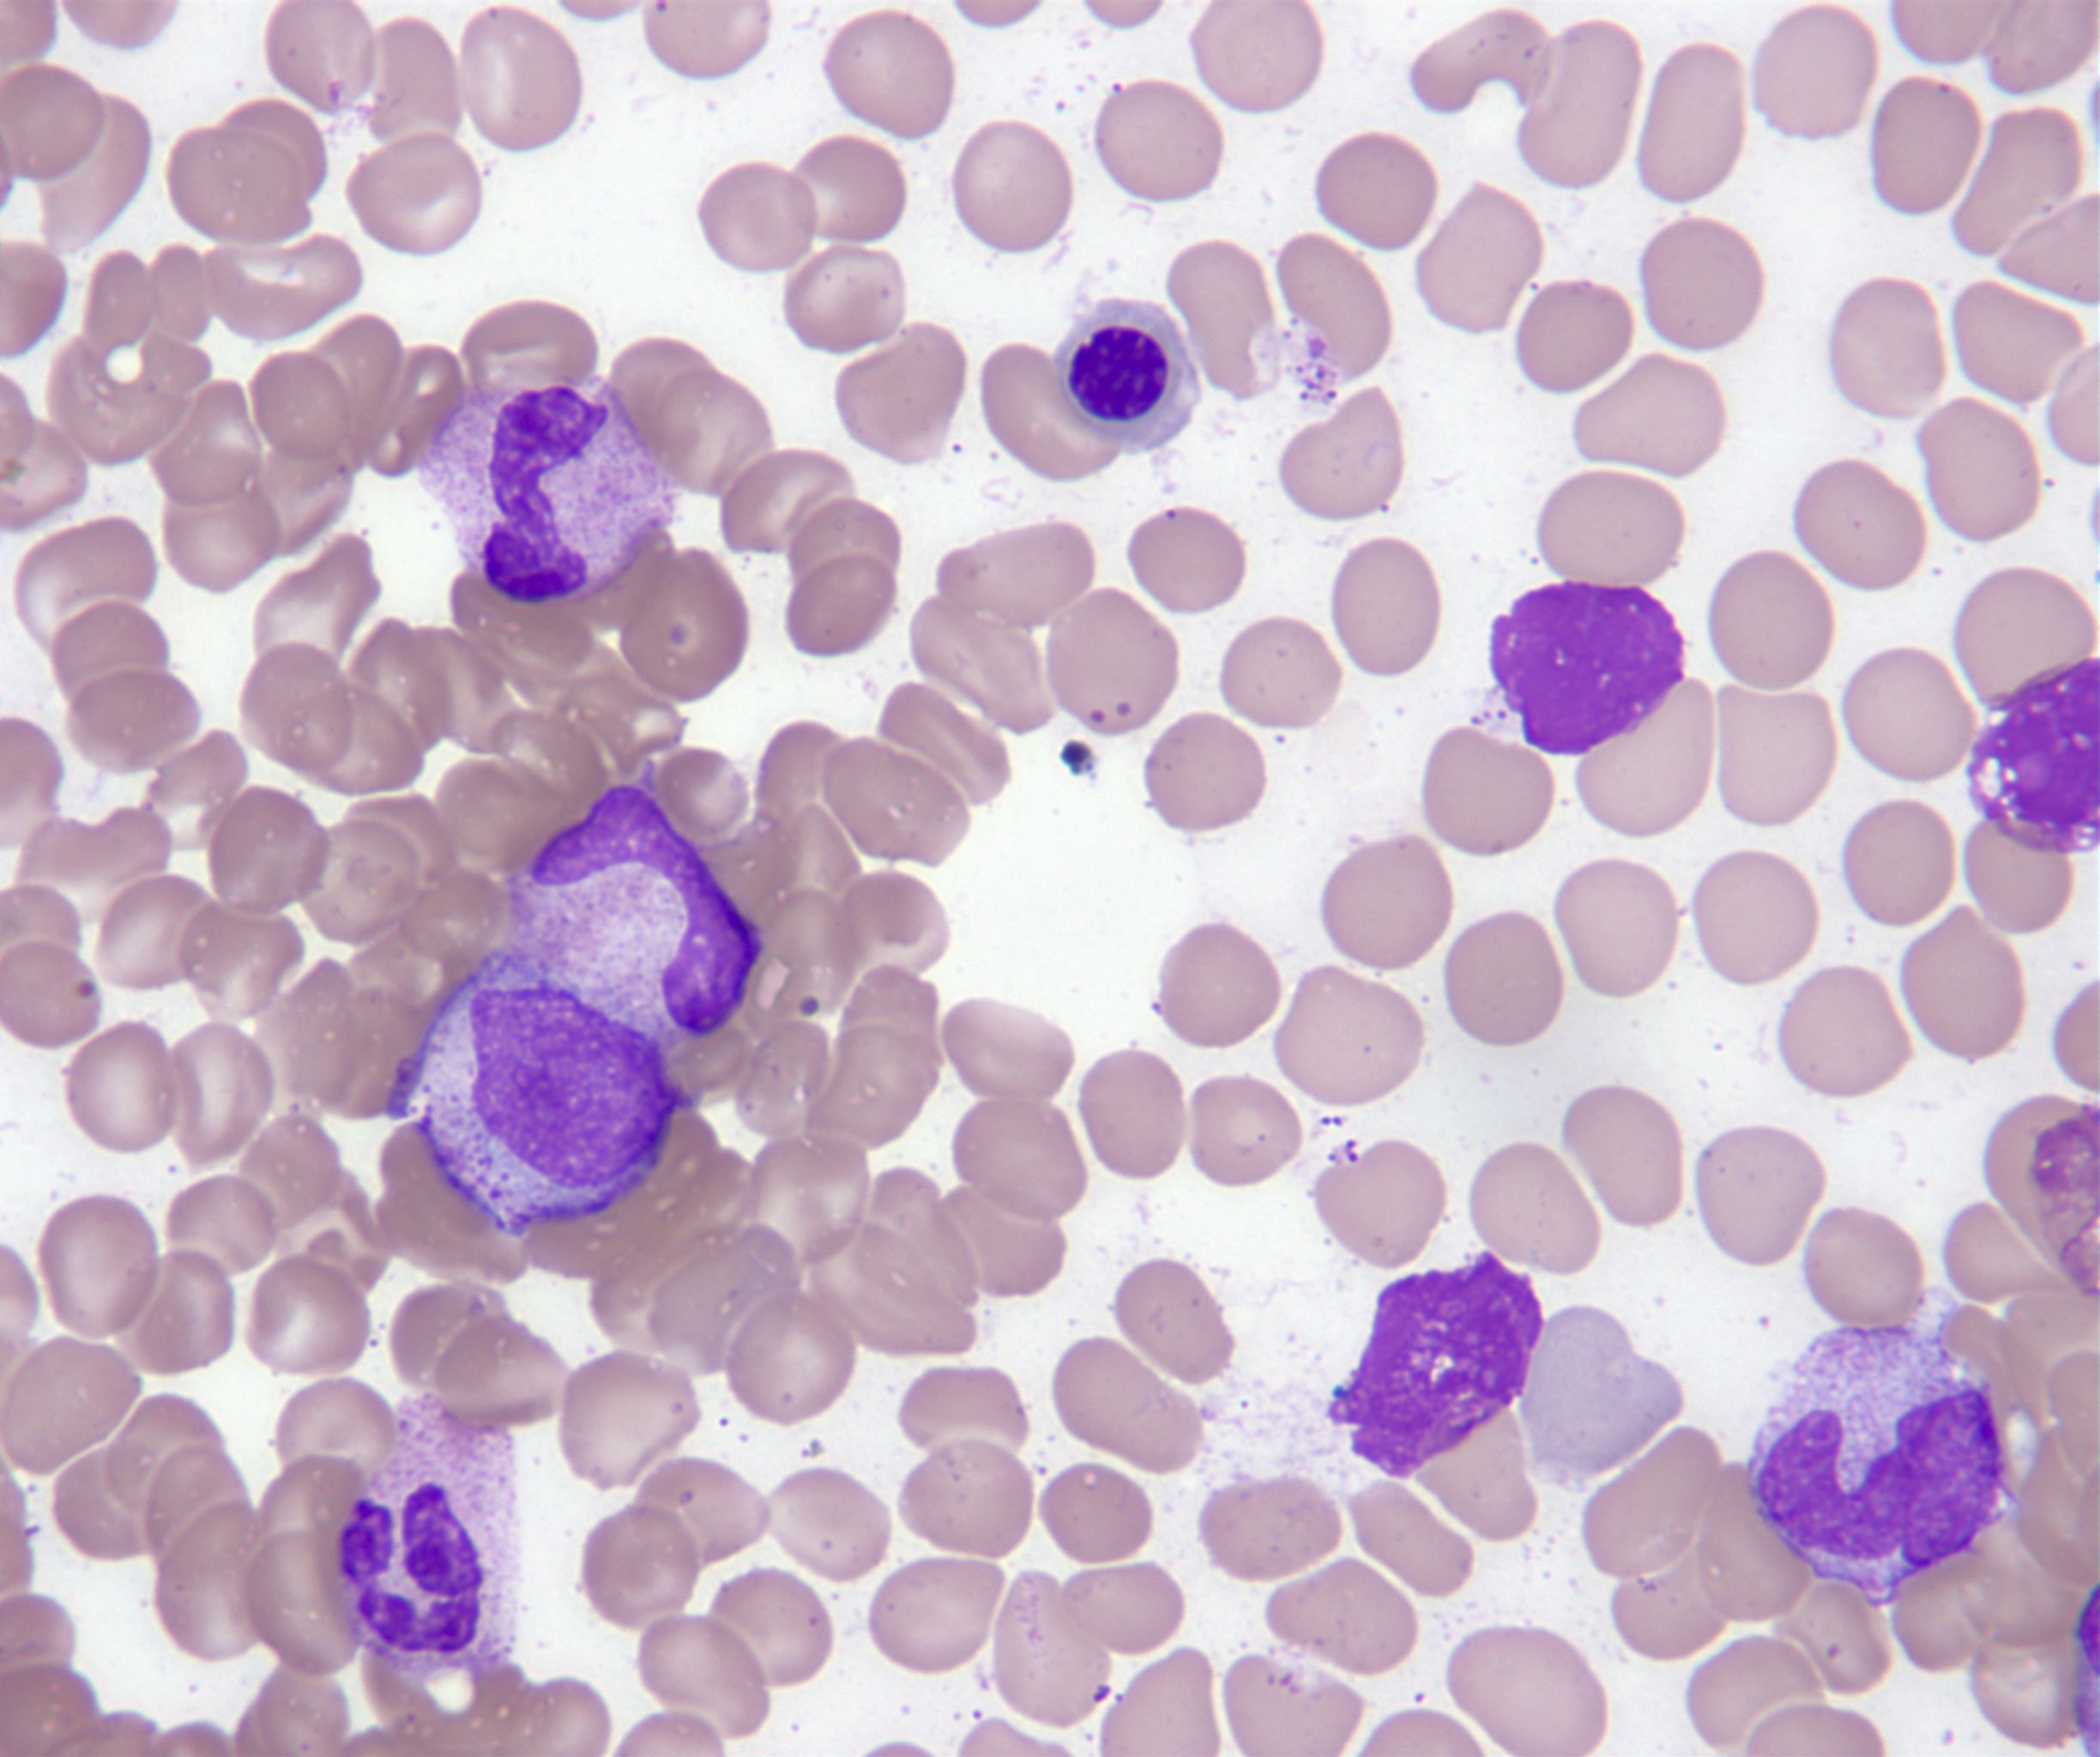24: (1052, 297, 1200, 455)
3: (384, 947, 689, 1239)
42: (1748, 1326, 2015, 1607)
5: (504, 787, 764, 1050), (420, 375, 673, 611)
6: (331, 1392, 518, 1678)
x: (1324, 1251, 1542, 1478), (1493, 581, 1683, 754), (1967, 658, 2100, 851)
